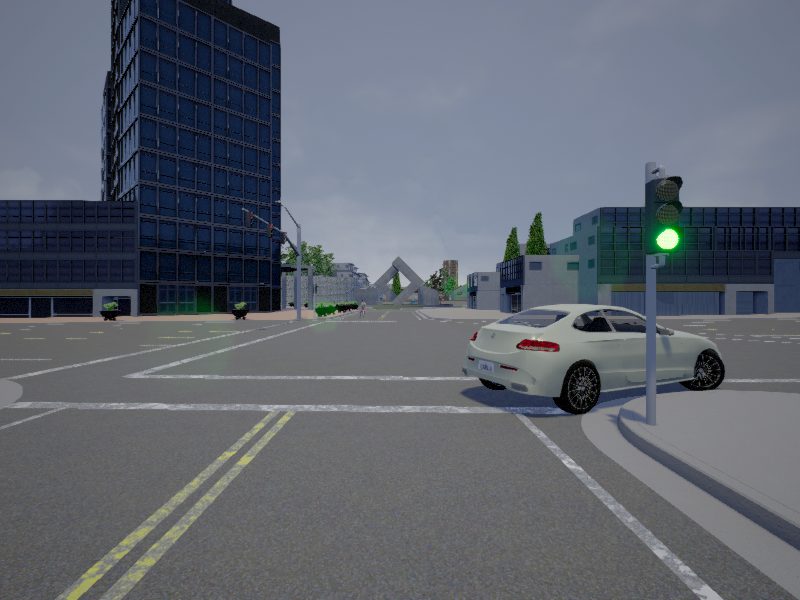Benign: (462, 300, 728, 417)
